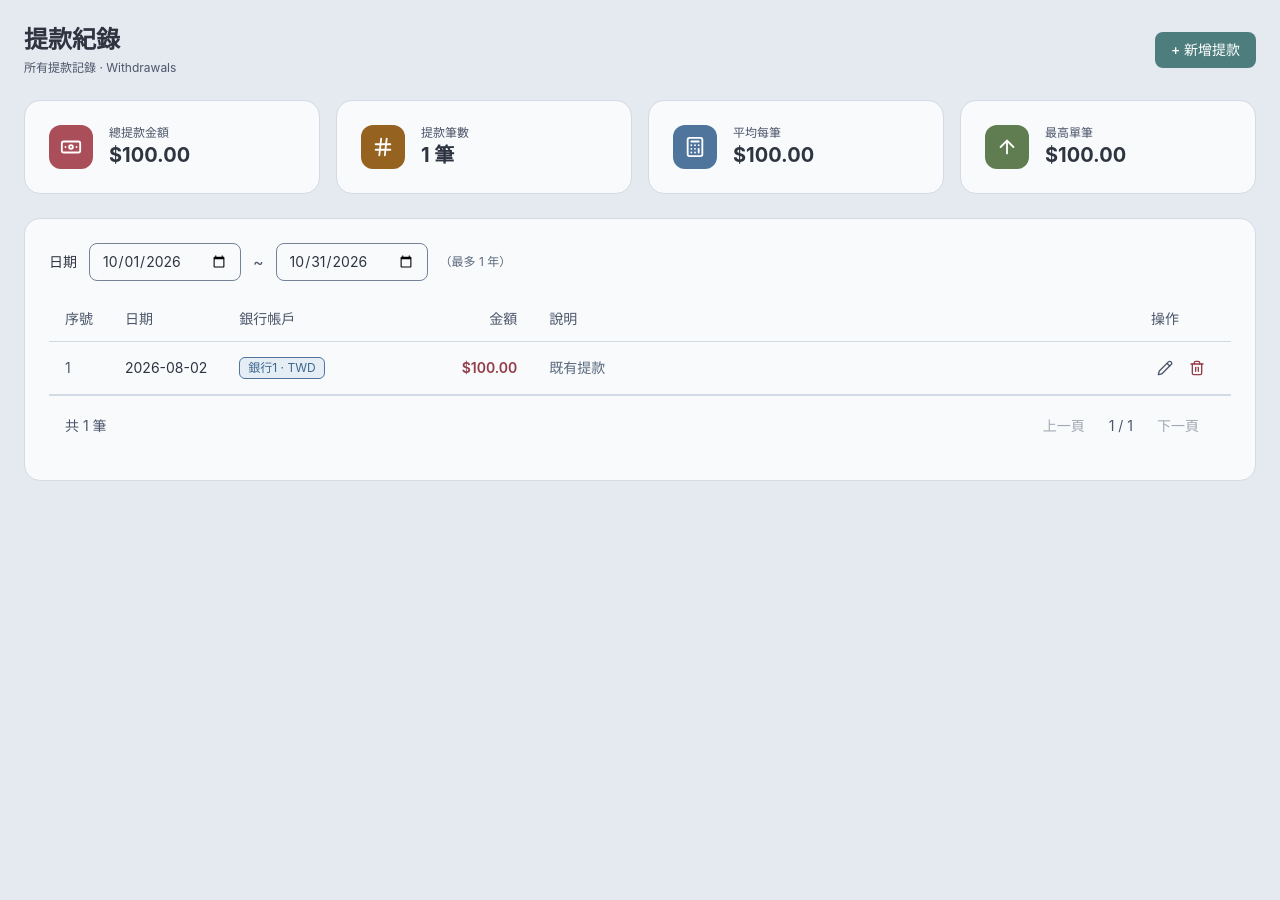
Test: restores the historical option after later new forms replace the options page
Click the button "+ 新增提款" at (1205, 50), box left=1155, top=32, right=1256, bottom=68
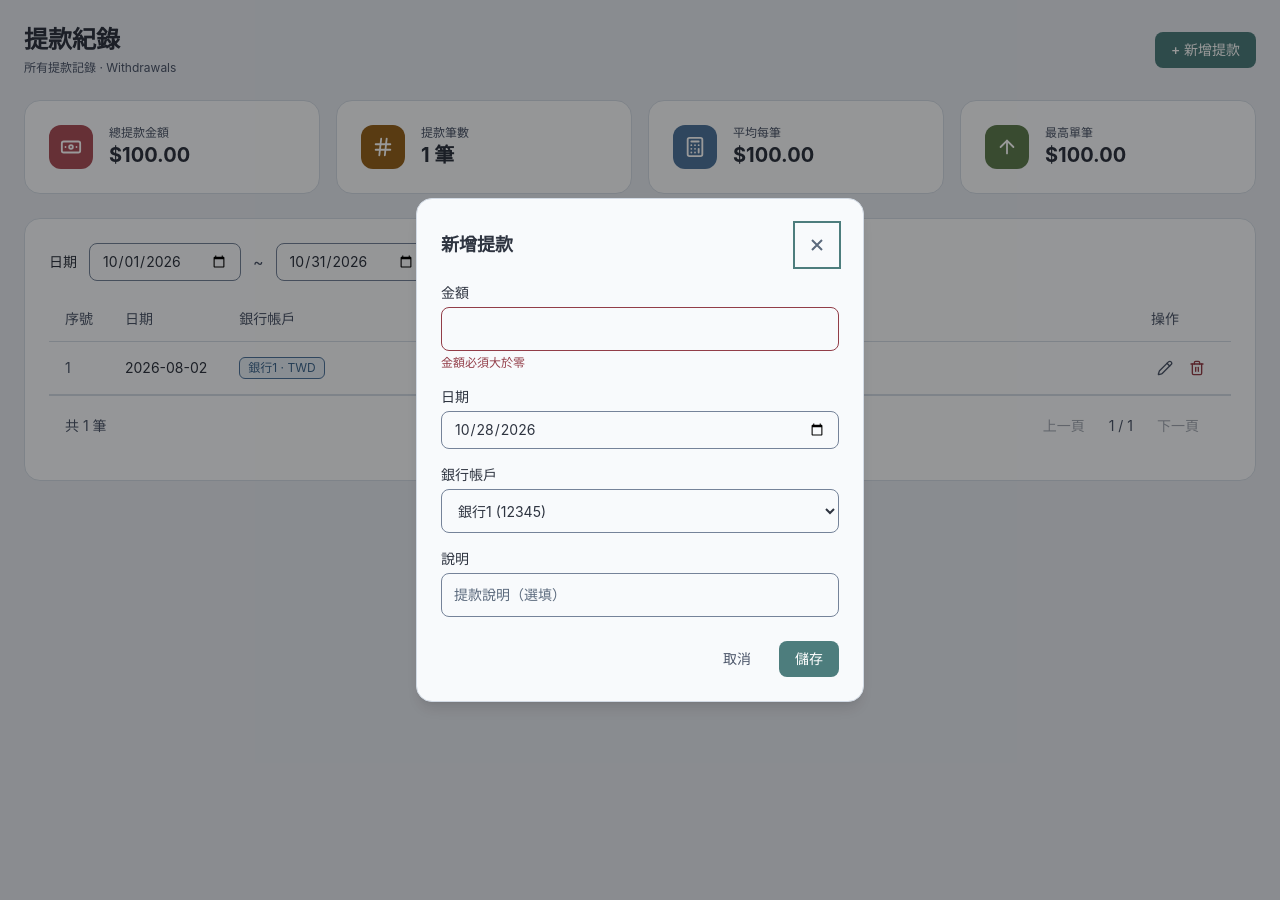
Check: the dropdown labelled "銀行帳戶" shows "銀行1 (12345)", box left=441, top=489, right=839, bottom=533
Click the button "取消" at (737, 659), box left=707, top=641, right=767, bottom=677
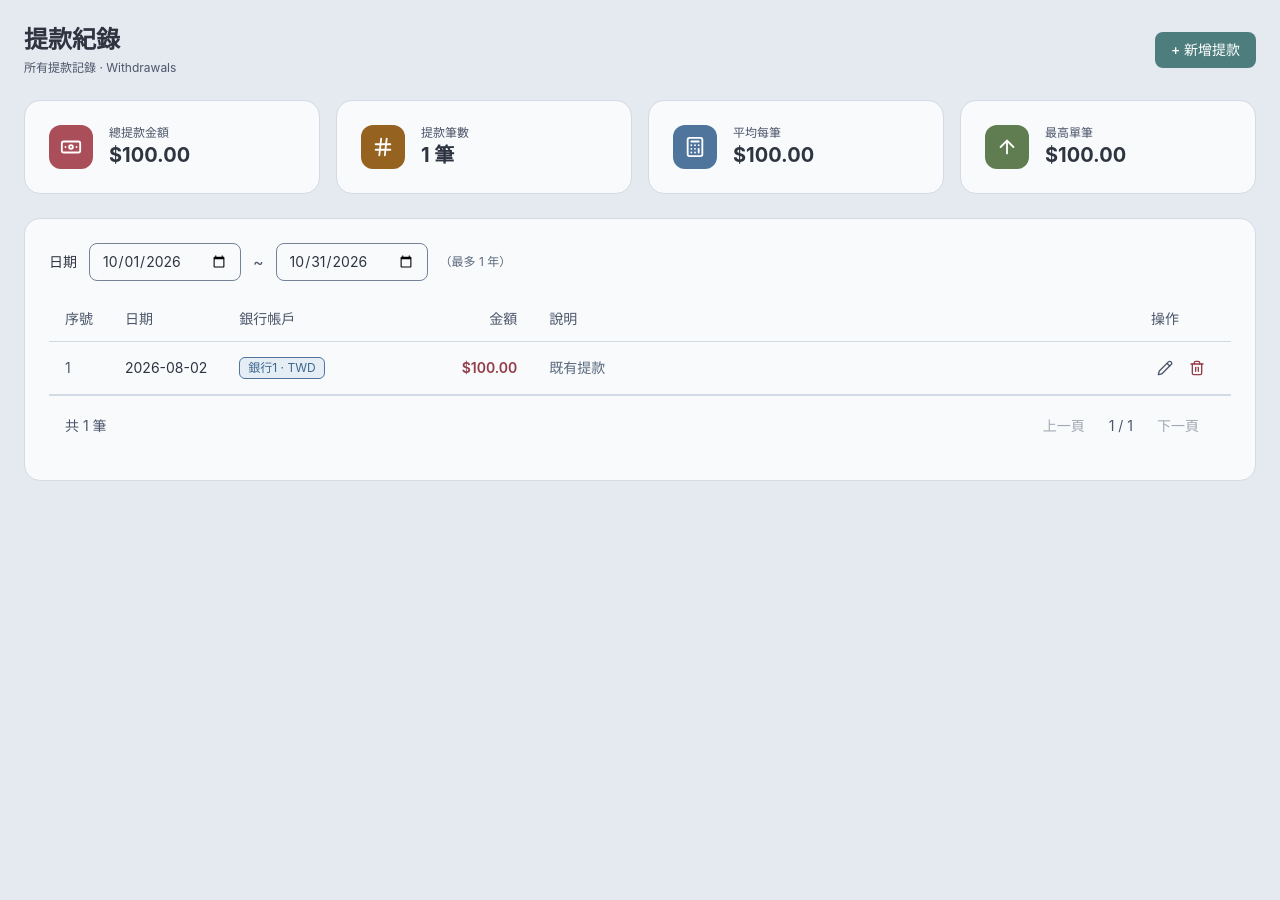
Click the button "+ 新增提款" at (1205, 50), box left=1155, top=32, right=1256, bottom=68
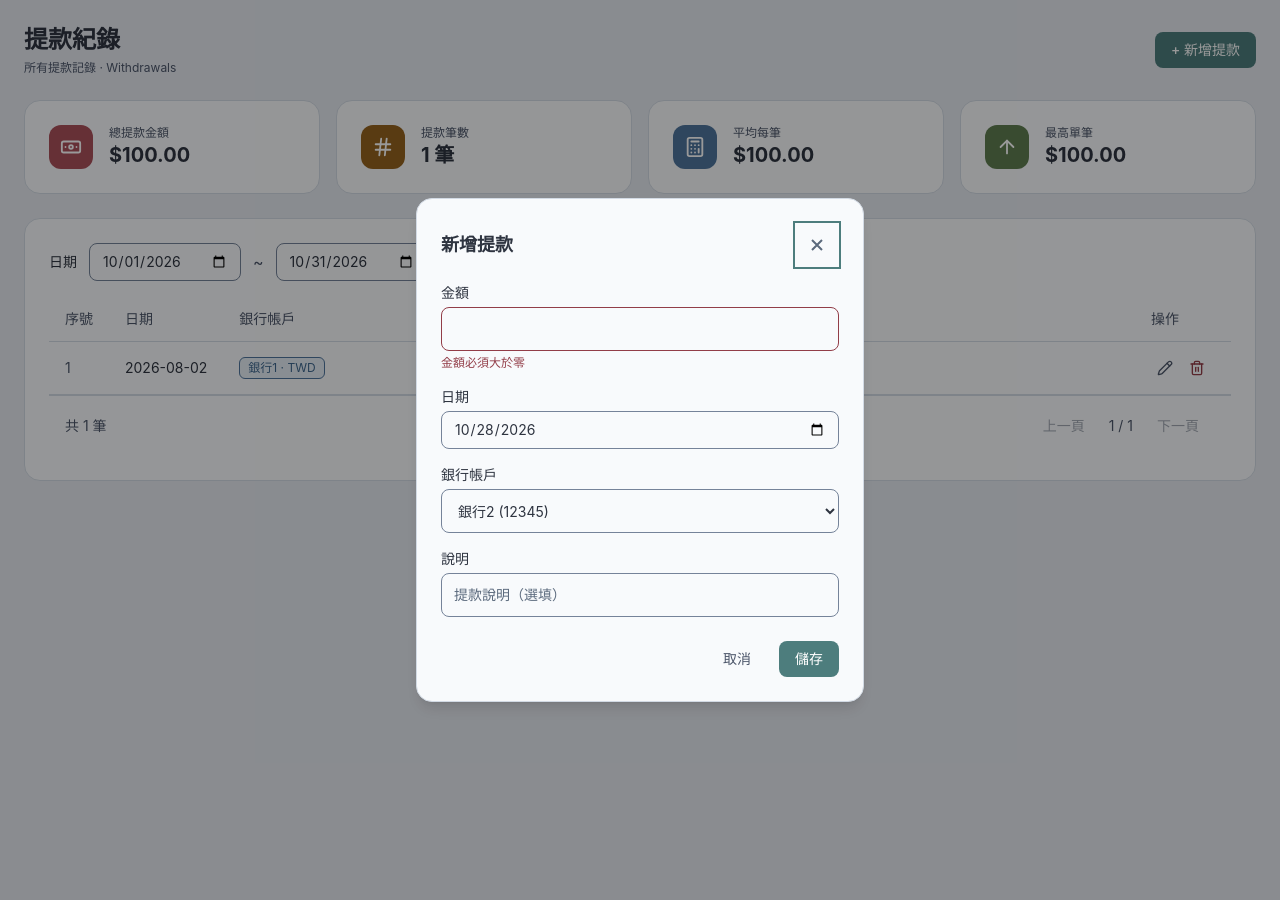
Check: the dropdown labelled "銀行帳戶" shows "銀行2 (12345)", box left=441, top=489, right=839, bottom=533
Click the button "取消" at (737, 659), box left=707, top=641, right=767, bottom=677
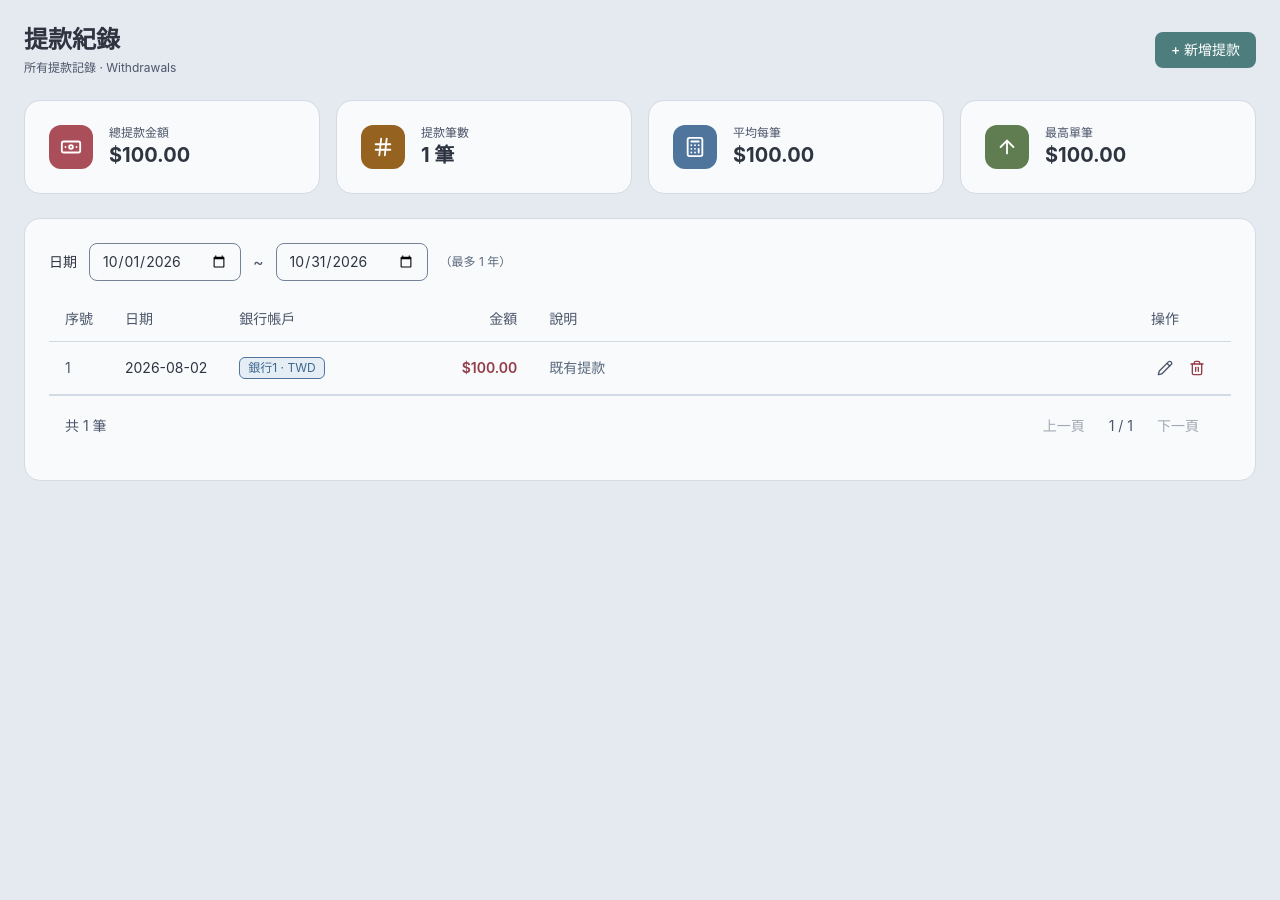
Click the 2nd button at (1165, 368), box left=1151, top=354, right=1179, bottom=382
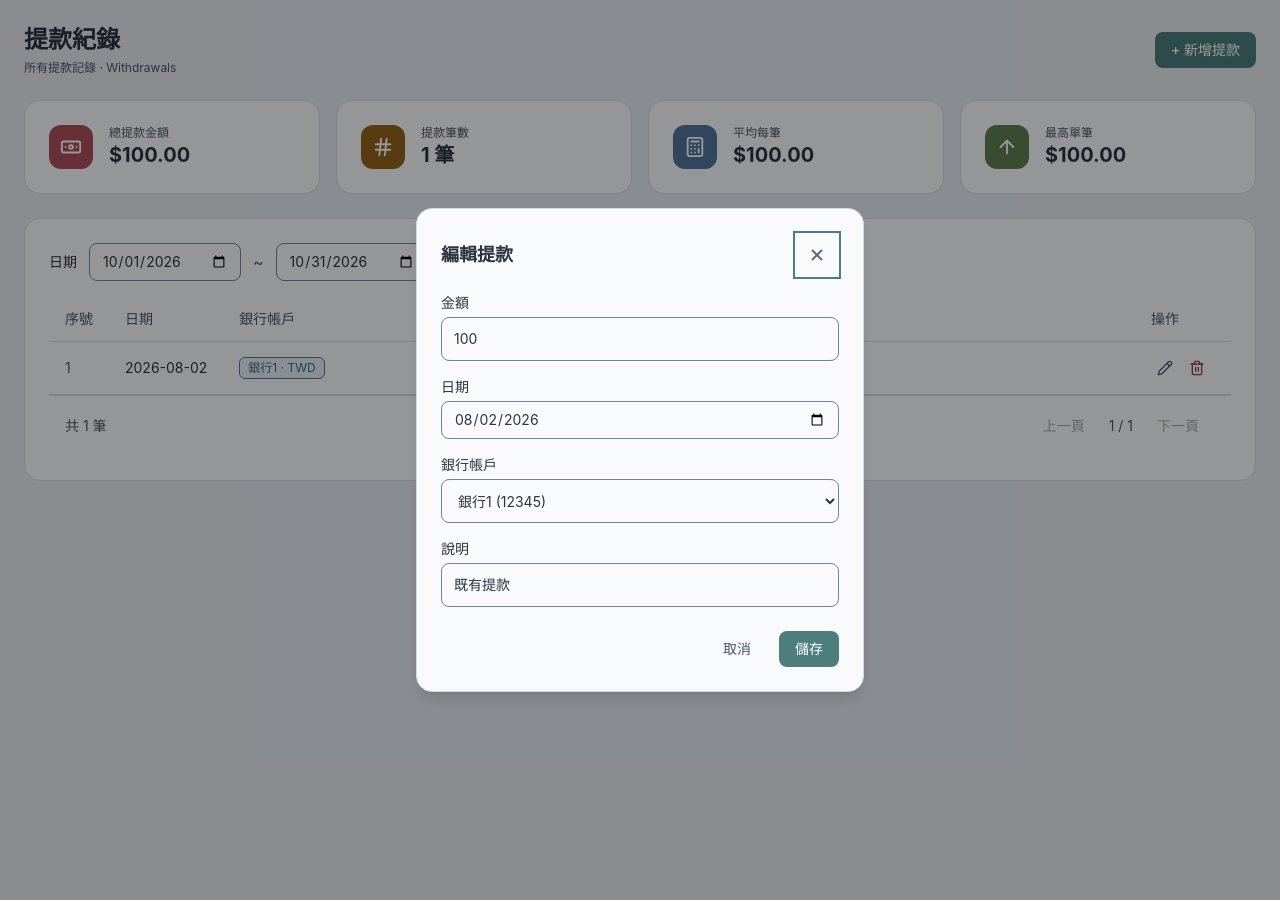
Check: the dropdown labelled "銀行帳戶" shows "銀行1 (12345)", box left=441, top=479, right=839, bottom=523
